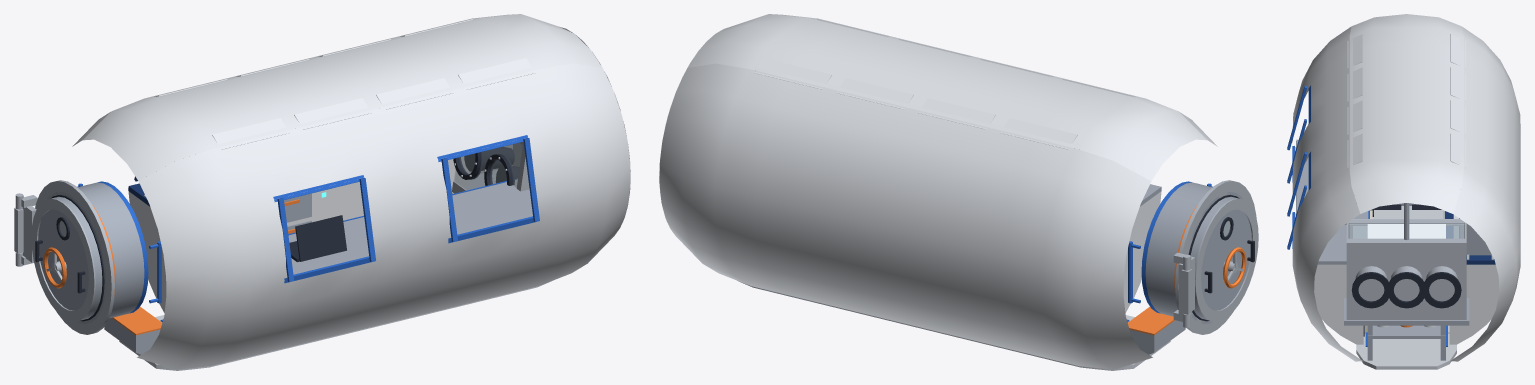
The model's file is lab.glb.
The picture shows the model from 3 angles, left to right: view 1: azimuth 30°, elevation 25°; view 2: azimuth 150°, elevation 25°; view 3: azimuth 270°, elevation 25°; orthographic projection. The views are drawn at different scales.
Parts seen in each view (by area): view 1: lab_wall_S, lab_wall_top, lab_furniture_static, lab_door_leaf, lab_hatch_frame, lab_light_housings_S, lab_wall_W, lab_floor, lab_light_housings_N; view 2: lab_wall_N, lab_wall_top, lab_door_leaf, lab_hatch_frame, lab_light_housings_N, lab_furniture_static, lab_wall_W, lab_floor, lab_light_housings_S; view 3: lab_furniture_static, lab_wall_top, lab_wall_N, lab_wall_S, lab_floor, lab_light_housings_S, lab_light_housings_N, lab_glow_parts.
Part boxes in pixels (x1=…): lab_wall_S: x1=137, y1=63, x2=630, y2=369; lab_wall_top: x1=83, y1=14, x2=602, y2=180; lab_furniture_static: x1=104, y1=142, x2=532, y2=354; lab_door_leaf: x1=14, y1=196, x2=102, y2=321; lab_hatch_frame: x1=15, y1=180, x2=144, y2=334; lab_light_housings_S: x1=212, y1=58, x2=534, y2=149; lab_wall_W: x1=77, y1=181, x2=161, y2=313; lab_floor: x1=119, y1=281, x2=551, y2=370; lab_light_housings_N: x1=154, y1=19, x2=472, y2=96; lab_wall_N: x1=659, y1=63, x2=1152, y2=369; lab_wall_top: x1=687, y1=14, x2=1206, y2=180; lab_door_leaf: x1=1178, y1=196, x2=1258, y2=321; lab_hatch_frame: x1=1145, y1=180, x2=1256, y2=334; lab_light_housings_N: x1=755, y1=58, x2=1077, y2=149; lab_furniture_static: x1=1123, y1=184, x2=1185, y2=354; lab_wall_W: x1=1128, y1=181, x2=1212, y2=313; lab_floor: x1=738, y1=281, x2=1170, y2=370; lab_light_housings_S: x1=817, y1=19, x2=1135, y2=96; lab_furniture_static: x1=1296, y1=139, x2=1499, y2=360; lab_wall_top: x1=1349, y1=14, x2=1463, y2=213; lab_wall_N: x1=1450, y1=26, x2=1520, y2=361; lab_wall_S: x1=1287, y1=27, x2=1362, y2=361; lab_floor: x1=1356, y1=206, x2=1456, y2=369; lab_light_housings_S: x1=1347, y1=34, x2=1362, y2=167; lab_light_housings_N: x1=1450, y1=34, x2=1465, y2=167; lab_glow_parts: x1=1367, y1=224, x2=1445, y2=238.
Bounding box in the file's own units: 3.82 × 1.63 × 1.79.
